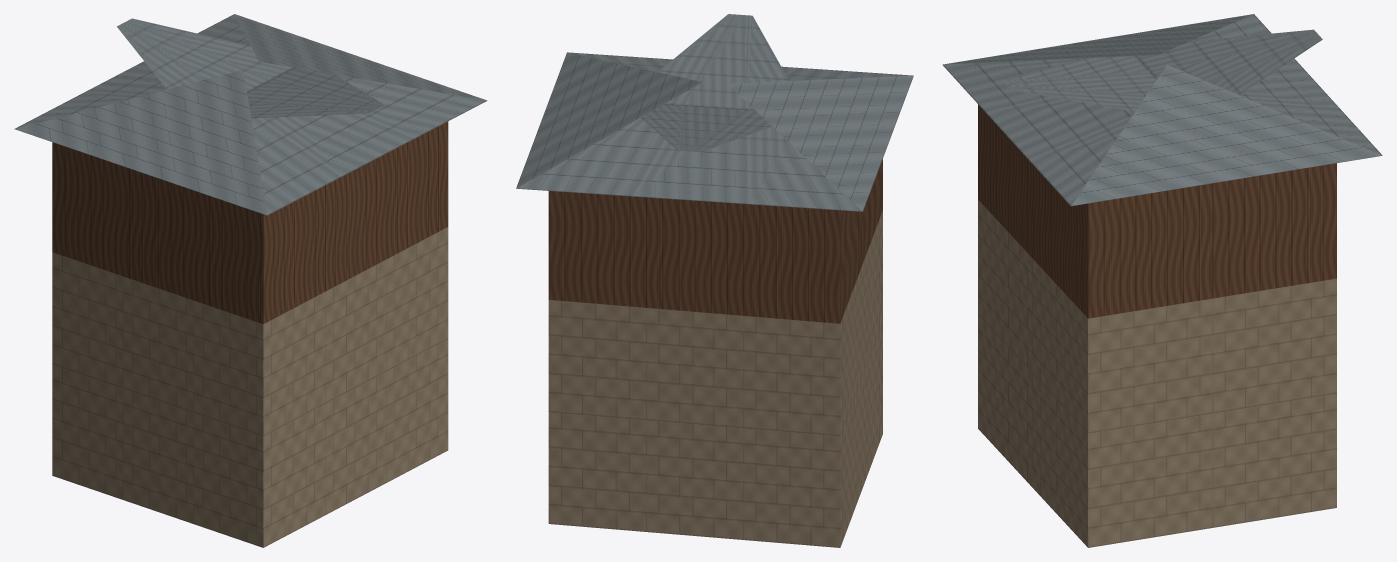
The model's file is bld_c-38_18_858.gltf.
The picture shows the model from 3 angles, left to right: view 1: azimuth 30°, elevation 25°; view 2: azimuth 150°, elevation 25°; view 3: azimuth 270°, elevation 25°; orthographic projection. The views are drawn at different scales.
Parts seen in each view (by area): view 1: bld_c-38_18_858; view 2: bld_c-38_18_858; view 3: bld_c-38_18_858.
Part boxes in pixels (x1,y1,x2,y2): bld_c-38_18_858: (14, 14, 487, 547); bld_c-38_18_858: (516, 14, 913, 547); bld_c-38_18_858: (942, 14, 1382, 547).
Size of the model in its own units: 8.2 by 8.1 by 7.94.
Materials: 3 (3 with a texture image).
